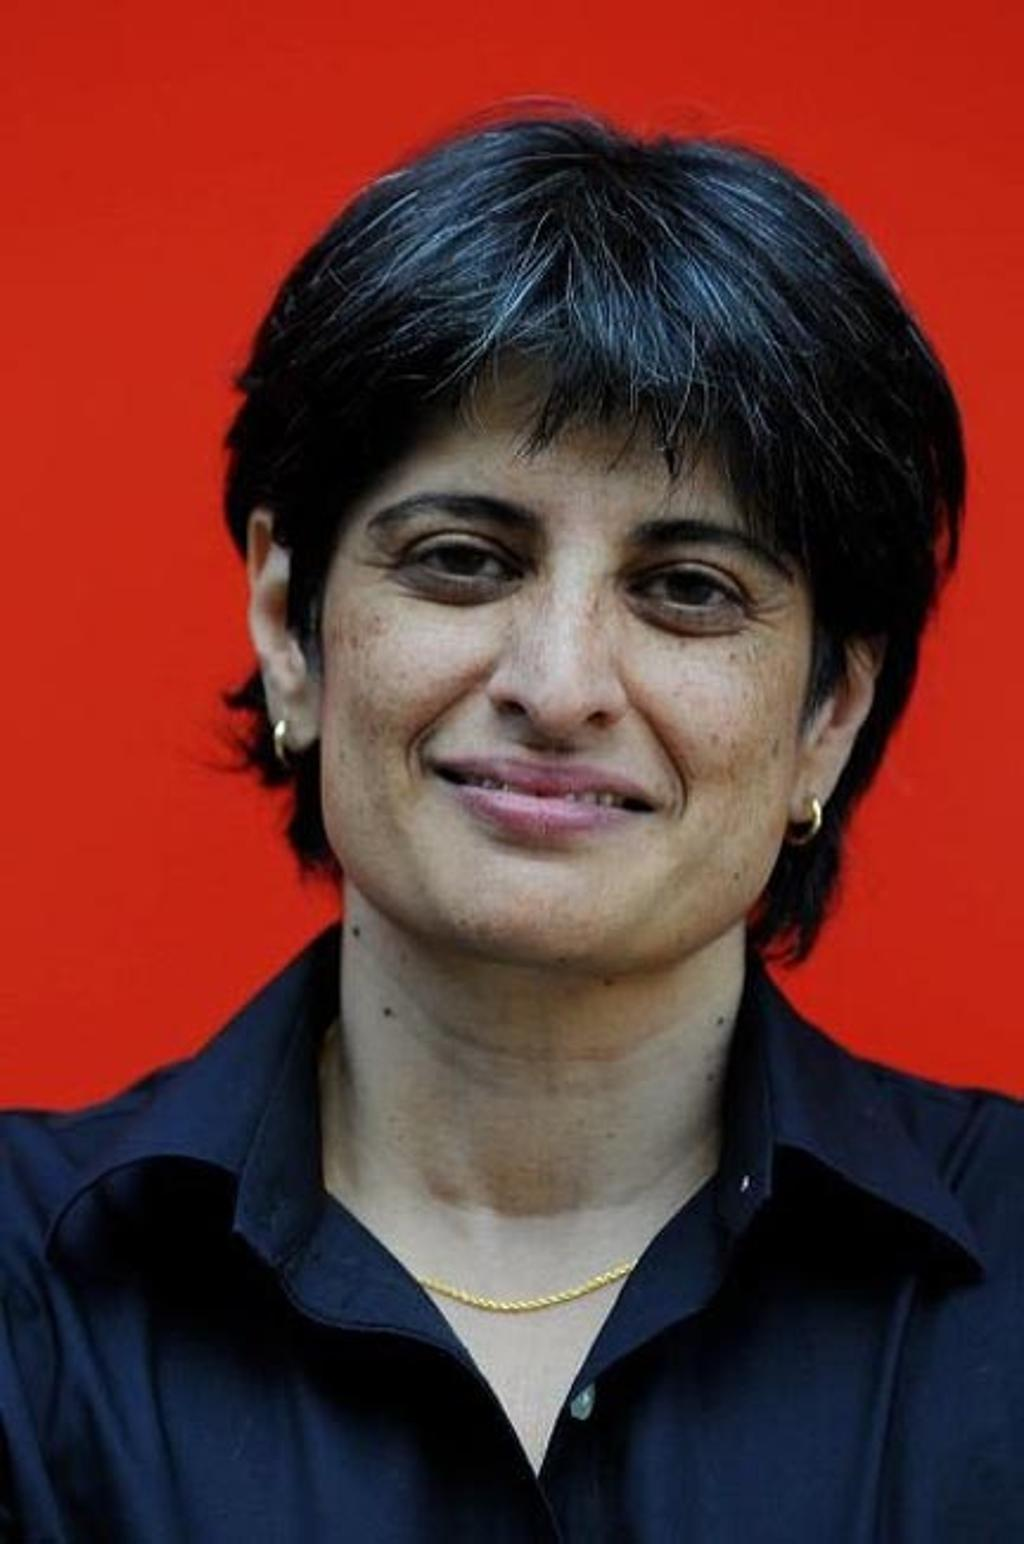face: (325, 340, 813, 945)
